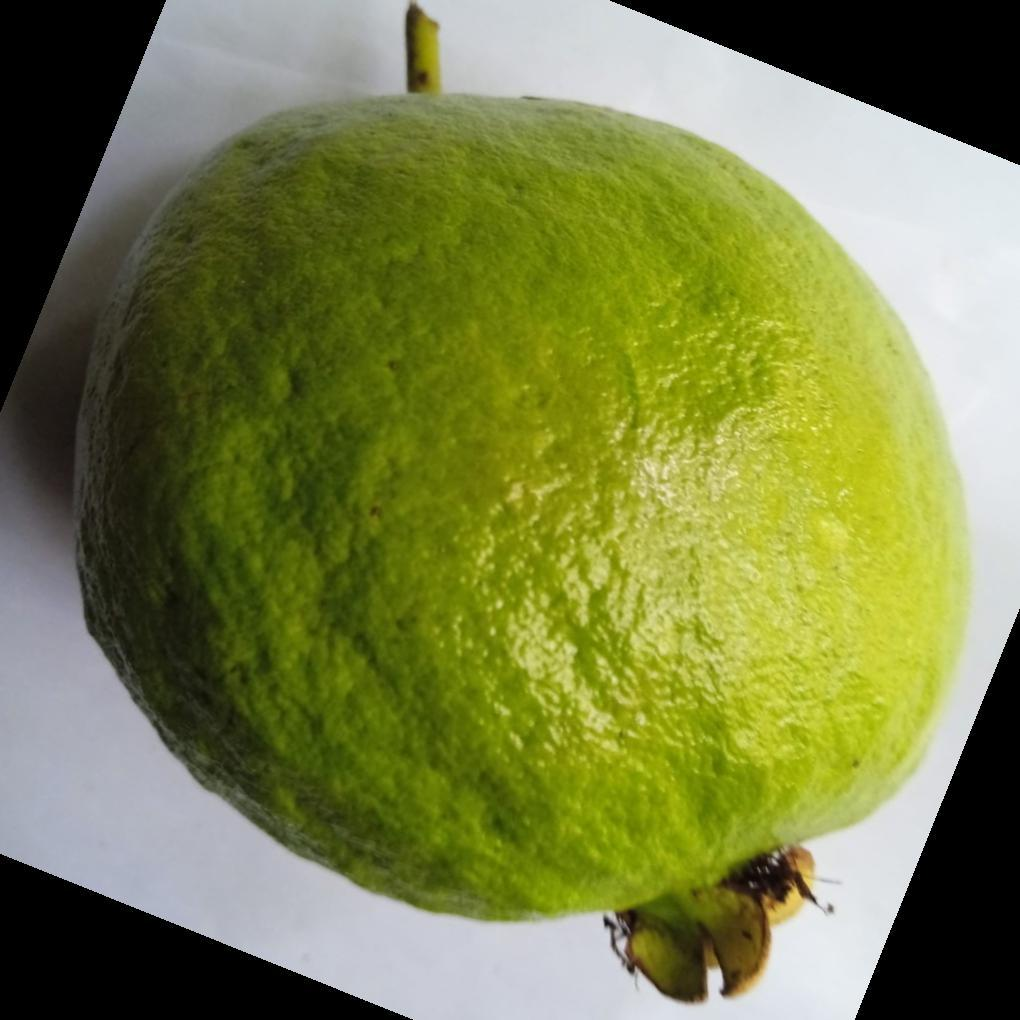FreshGuava: (72, 90, 976, 994)
